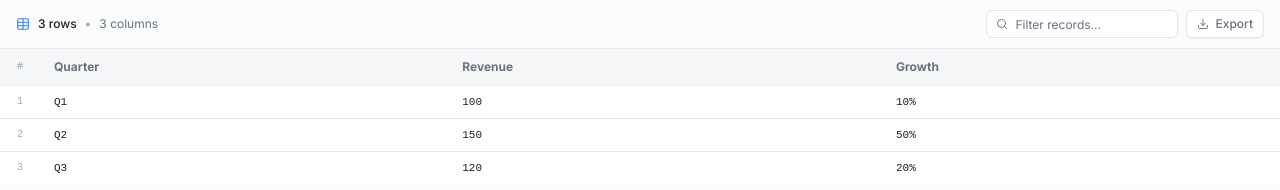
Test: Artifact Renderers & Utilities › CsvTableRenderer › filters rows based on search input
In the field with placeholder "Filter records...": (1082, 24) [986,10,1178,38], type "Q2"
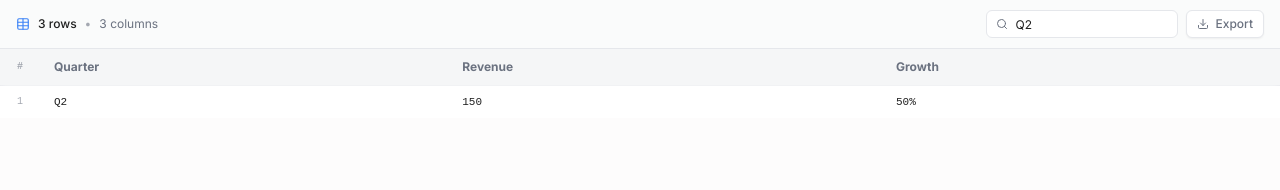
Check: the text "Q2" is shown, box [40,86,448,118]
Check: the text "Q1" is gone
Check: the text "Q3" is gone
